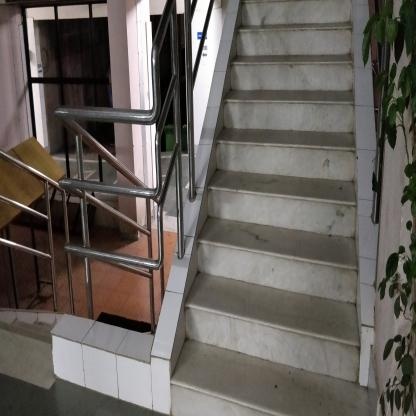stairs: (241, 16, 351, 393)
